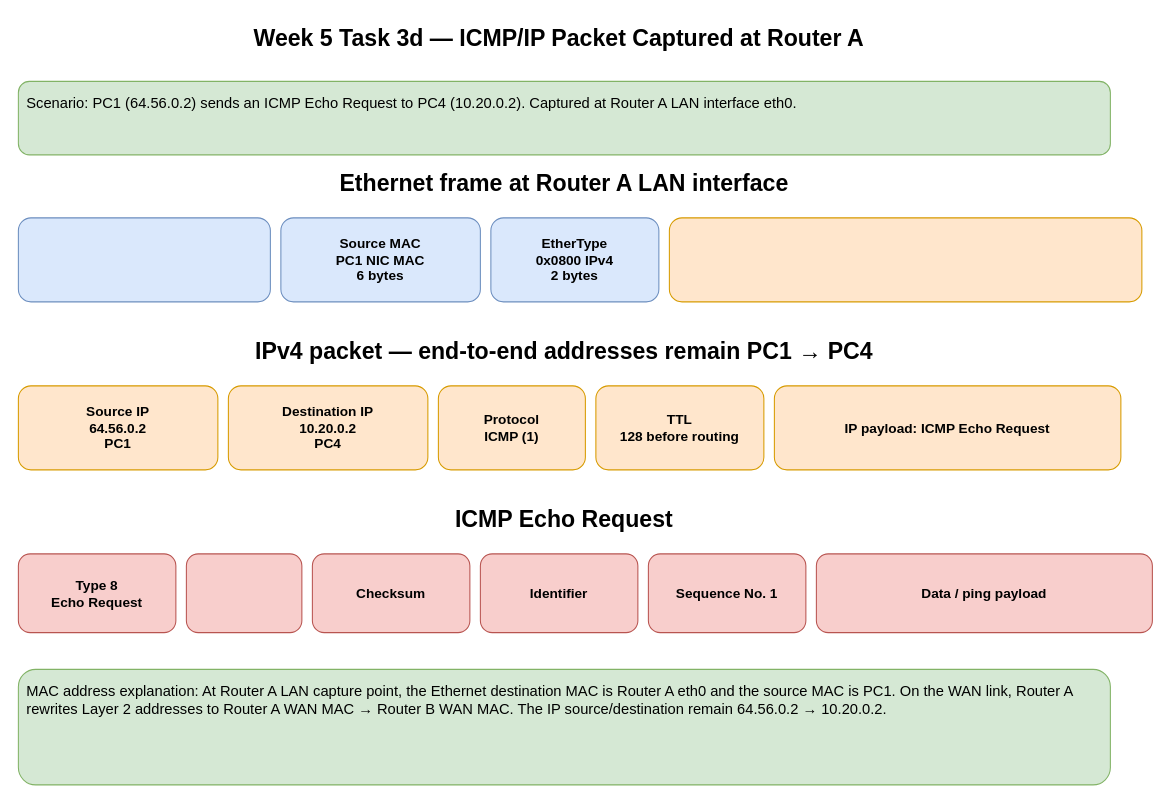
Image size: 1171x803. Some labels were removed from this diagram. Here are the shapes that lost their labels. From the top down, the centre of each, then its label:
(143,259): Destination MAC Router A eth0 MAC 6 bytes
(905,259): IPv4 Header + ICMP Echo Request + Data
(243,593): Code 0
